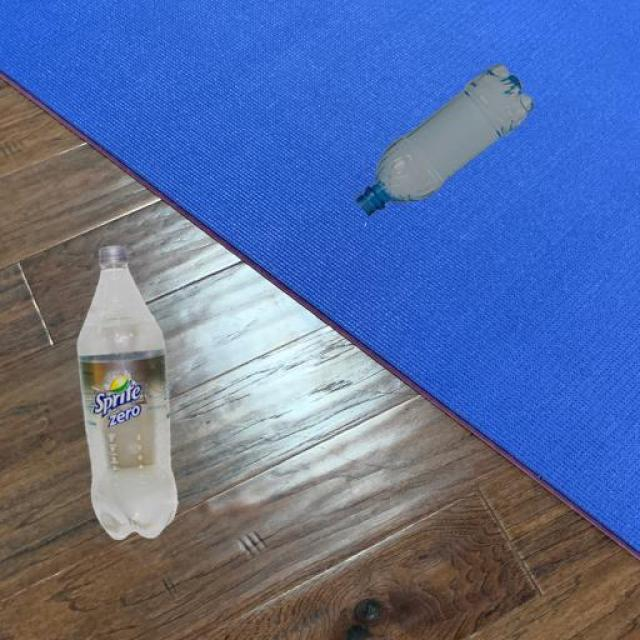litter: (49, 231, 200, 554)
